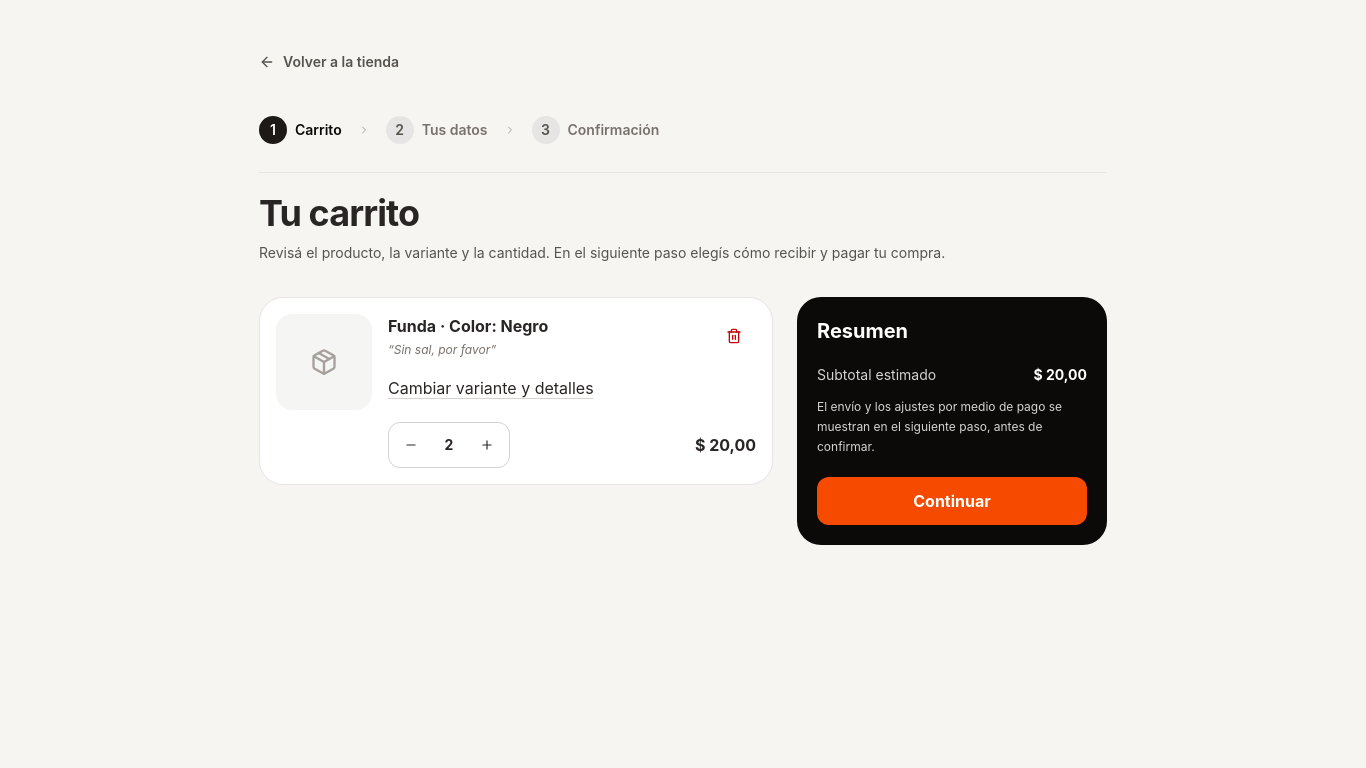
Test case: cart validation and deliberate reconfiguration › lets a store customer change a variant from the cart while preserving quantity and notes
The width and height of the screenshot is (1366, 768).
Click the button with aria-label "Editar Funda": click(491, 388) [388,366,594,410]
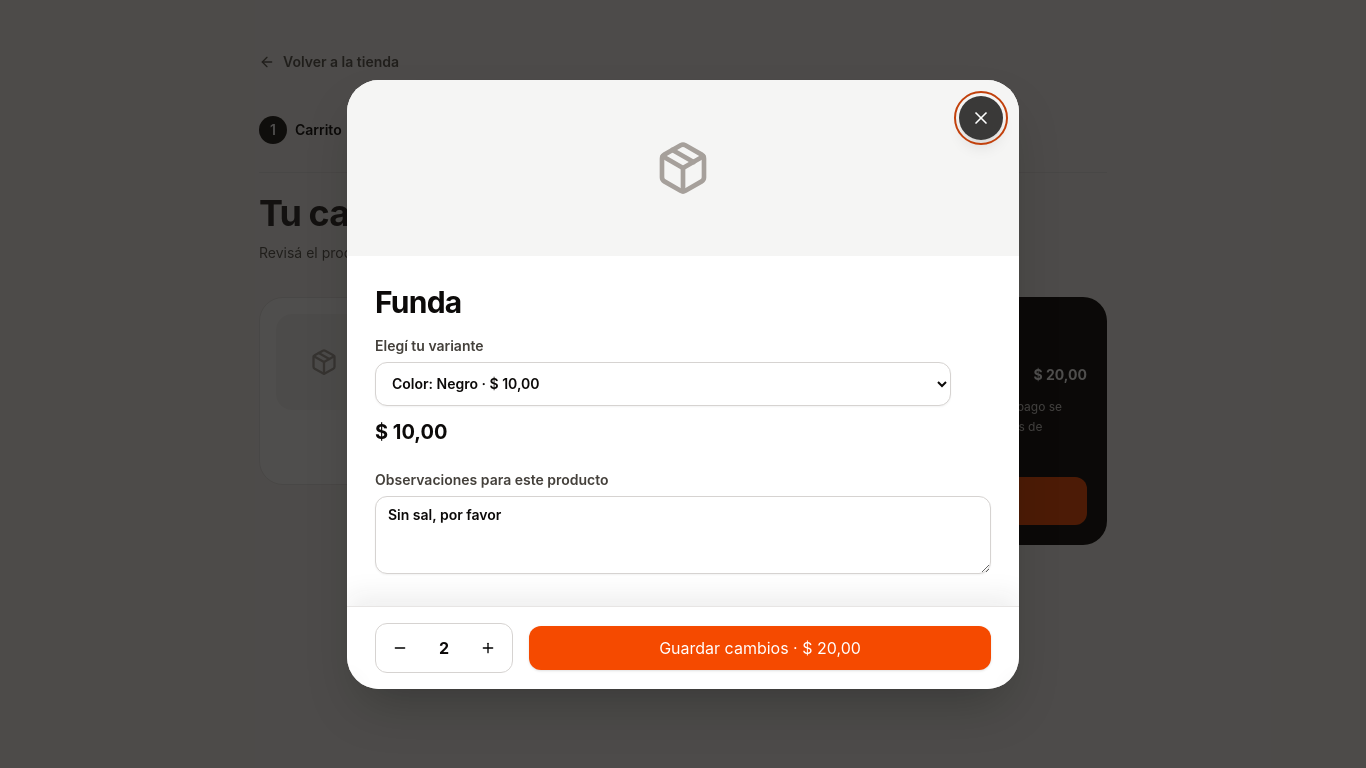
Click the button named "Sumar uno": click(488, 648) [464,624,512,672]
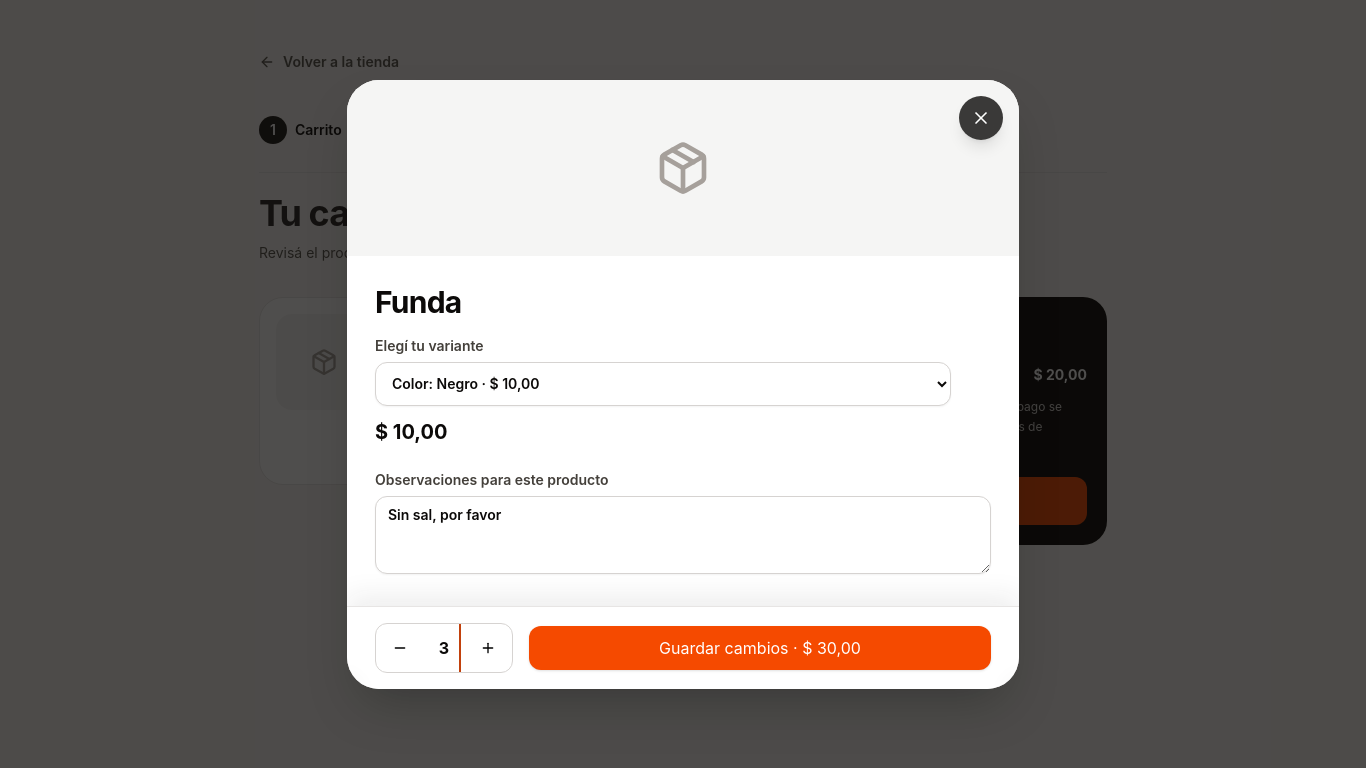
Replace the text in the text box labelled "Observaciones para este producto" with "Para regalo": (683, 534) [375,496,991,574]
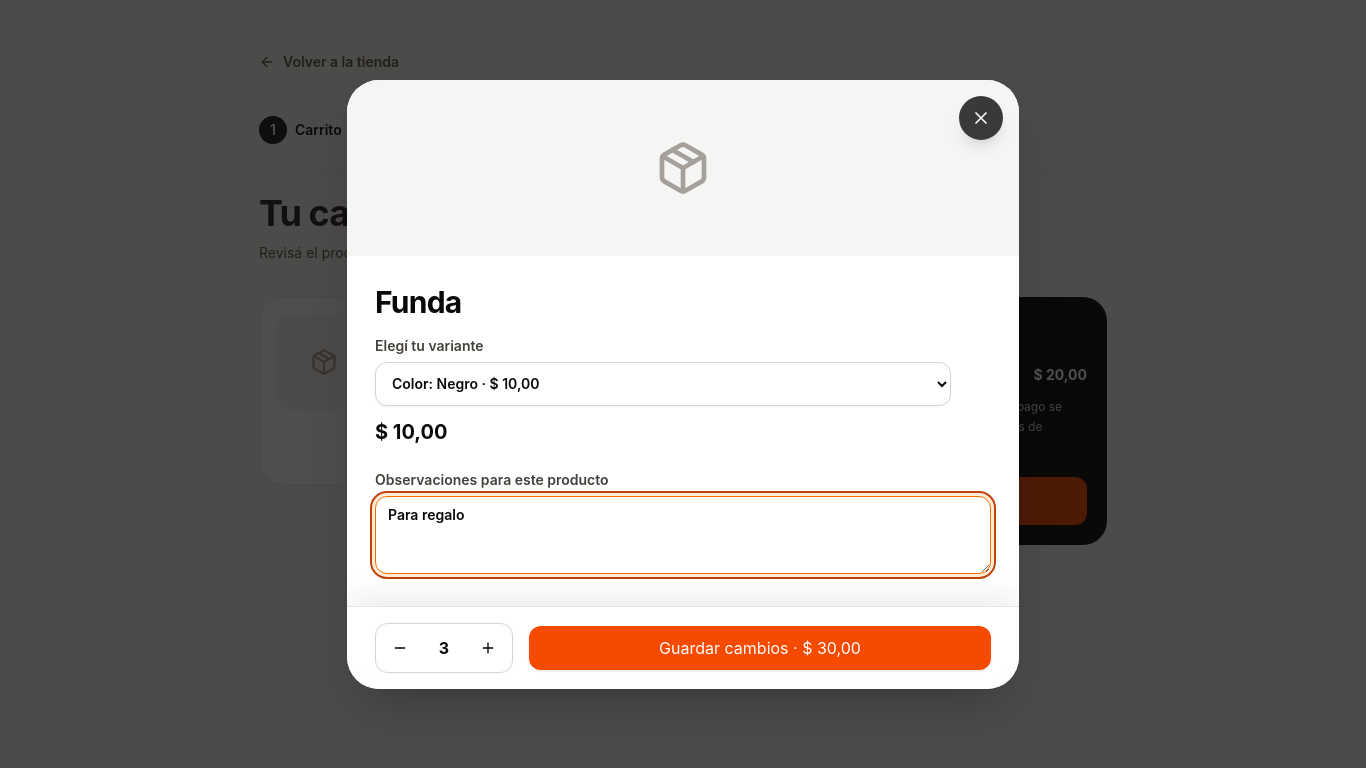
Select "Color: Azul · $ 15,00" in the dropdown labelled "Elegí tu variante": (663, 384) [375,362,951,406]
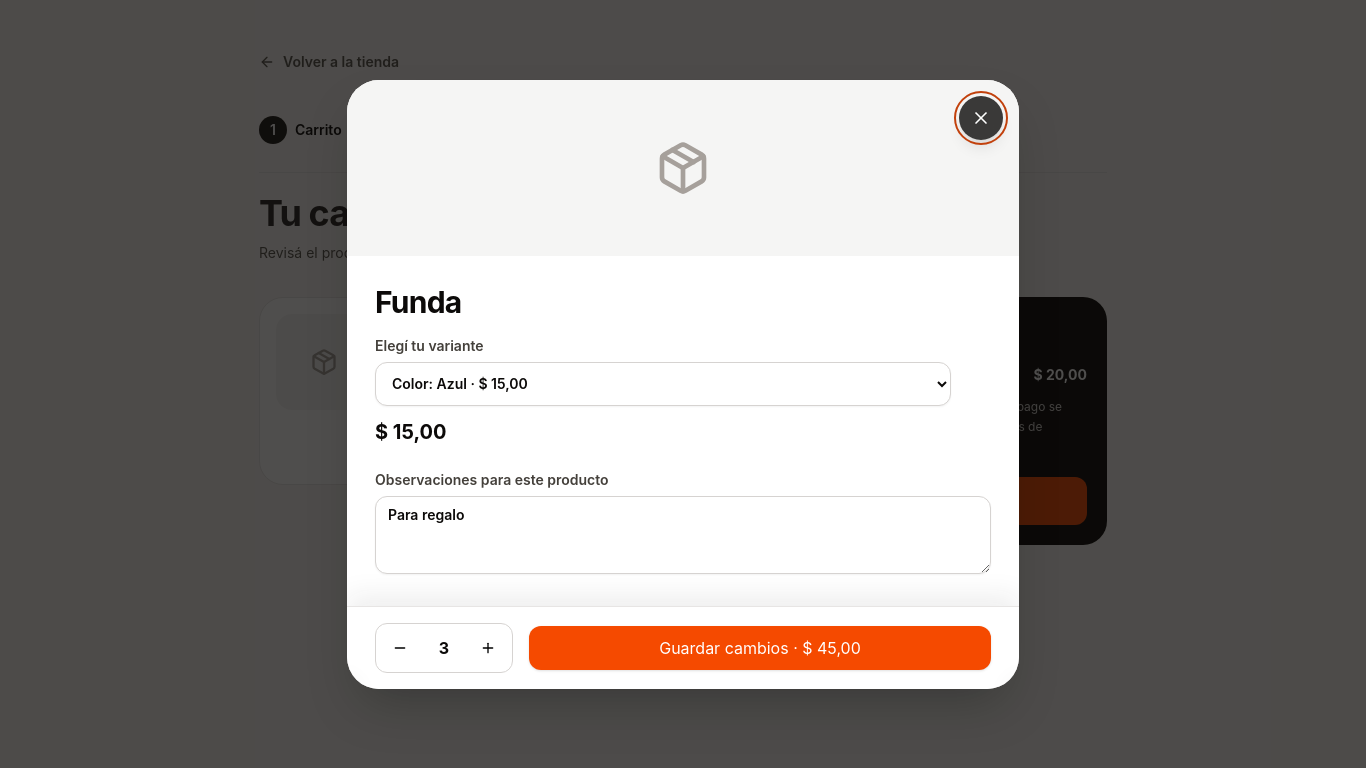
Check: the text box labelled "Observaciones para este producto" holds "Para regalo", box [375,496,991,574]
Click the button "Guardar cambios · $ 45,00": click(760, 648) [529,626,991,670]
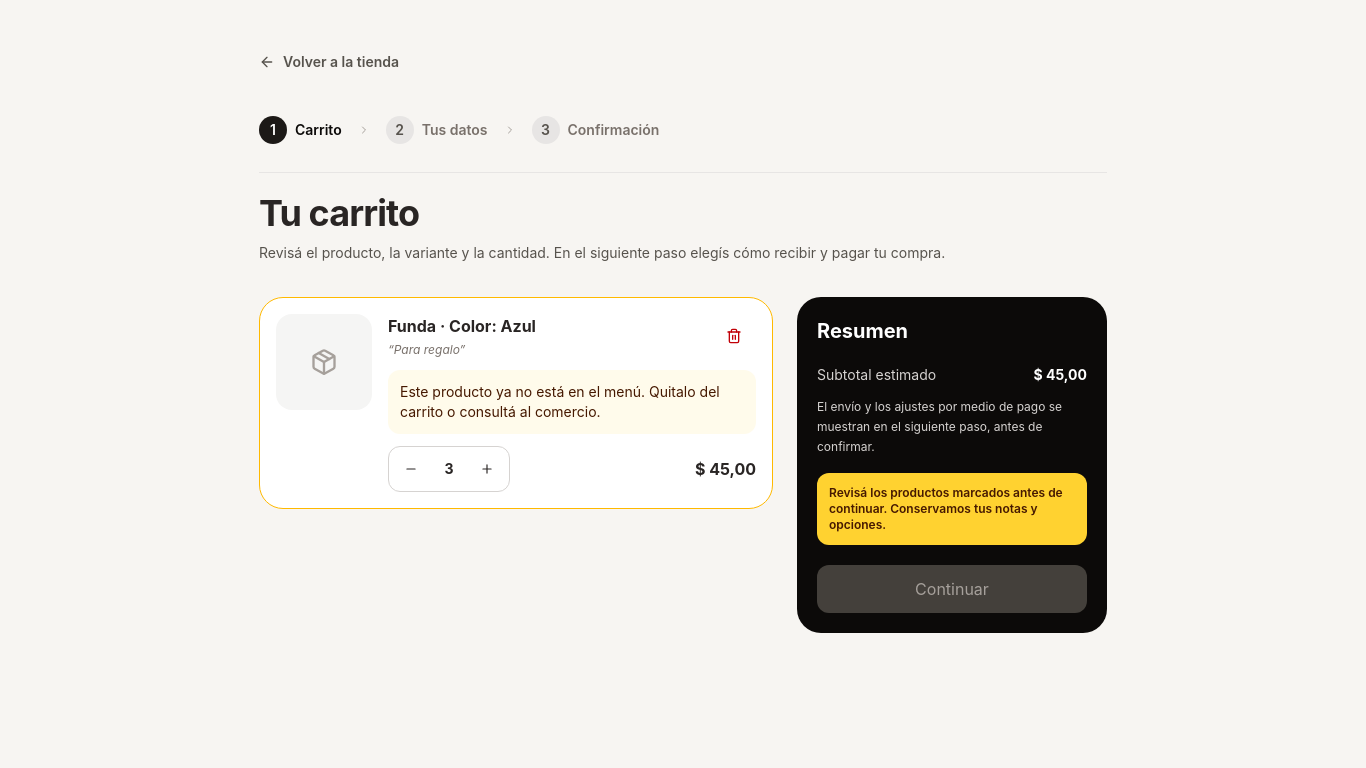
Check: the dialog is gone
